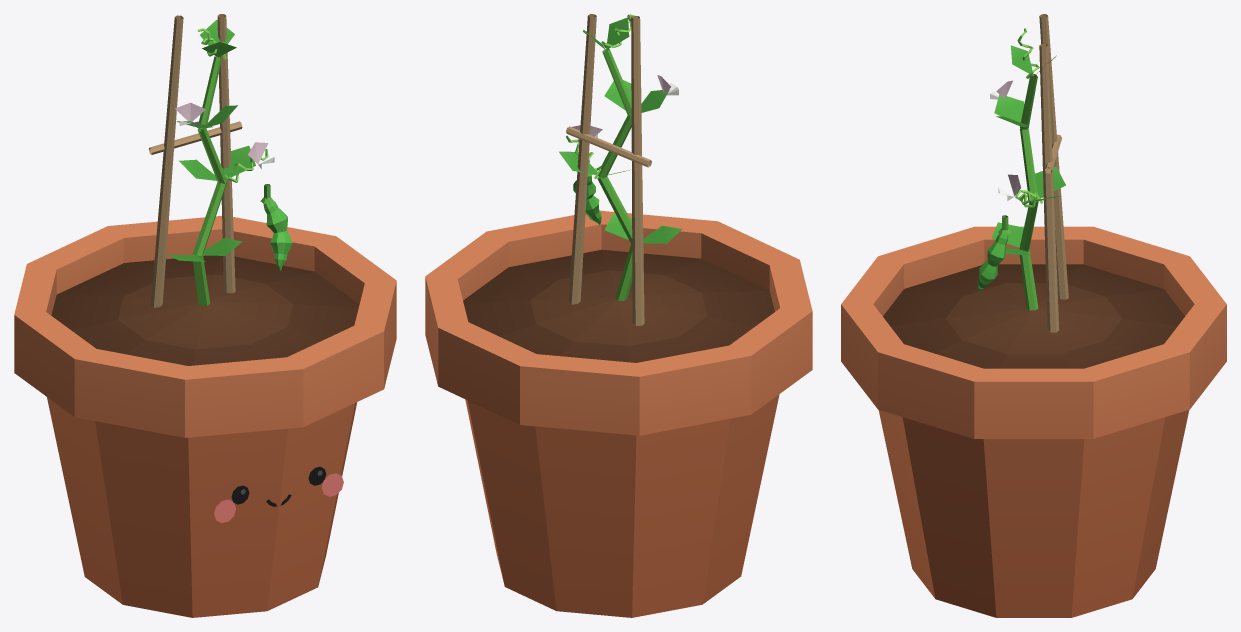
File: cute_pea_stage3.glb
3 views of the same model, side by side, from view 1: azimuth 30°, elevation 25°; view 2: azimuth 150°, elevation 25°; view 3: azimuth 270°, elevation 25° (orthographic). The views are drawn at different scales.
Parts seen in each view (by area): view 1: PeaPlant; view 2: PeaPlant; view 3: PeaPlant.
Boxes of the visible parts, x1,y1,x2,y2 form: PeaPlant: (14,14,396,617); PeaPlant: (425,14,812,617); PeaPlant: (841,14,1226,617).
Bounding box in the file's own units: 0.3766 × 0.6153 × 0.396.
